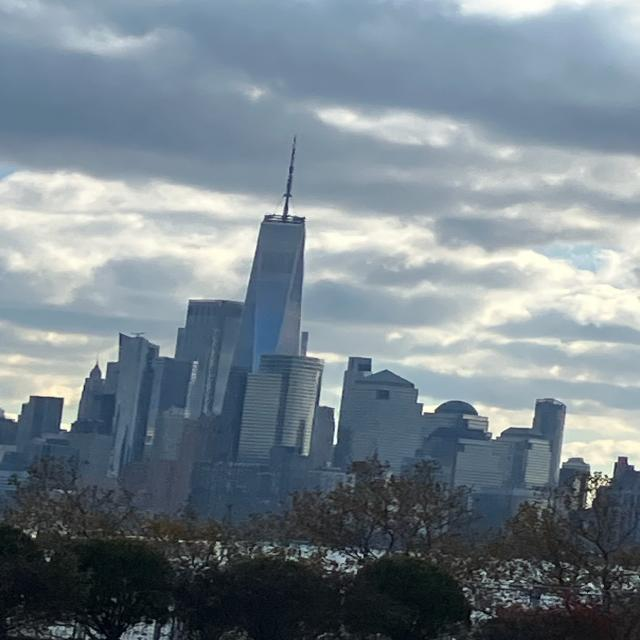WTC: (238, 133, 312, 358)
